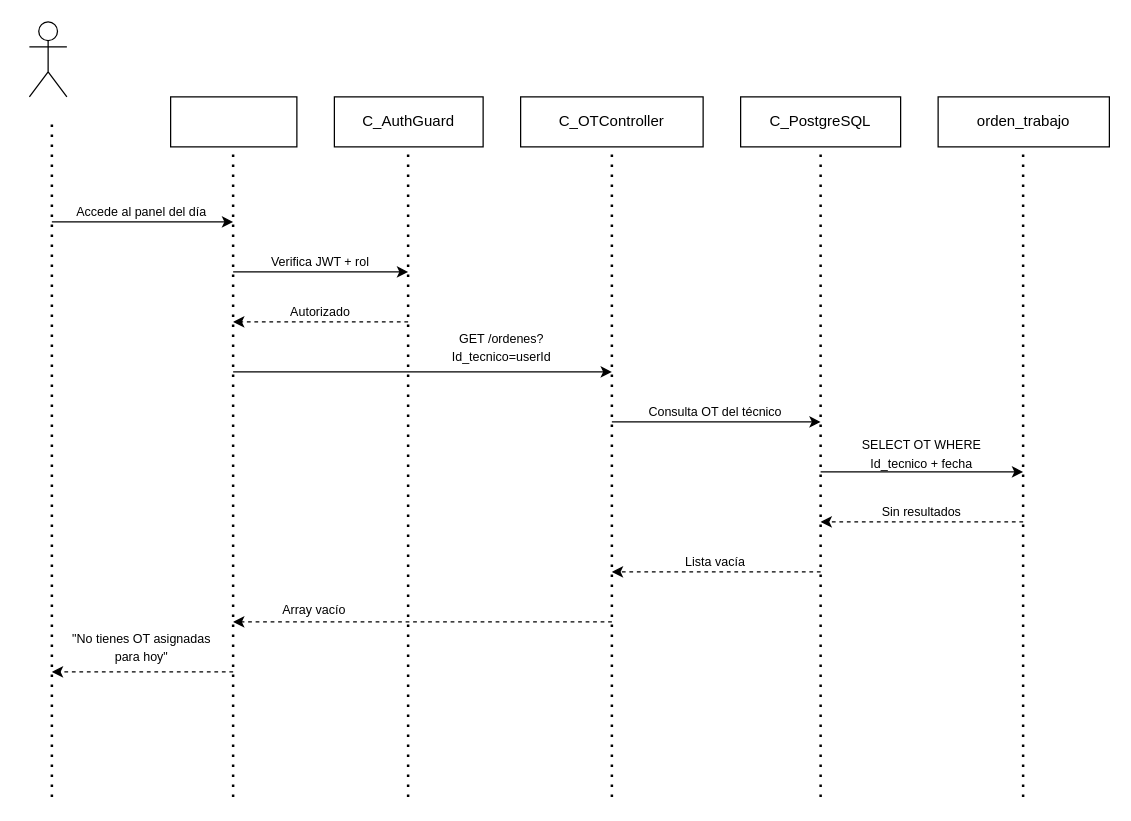
Some shapes in this 1131 by 821 pixel diagram are drawn without their labels. The shapes that lost their labels are listed below. From the top down, each one's centre as x and y in pixels, then its label:
At point (47, 59): "Técnico".
At point (233, 121): "V_Terreno".
